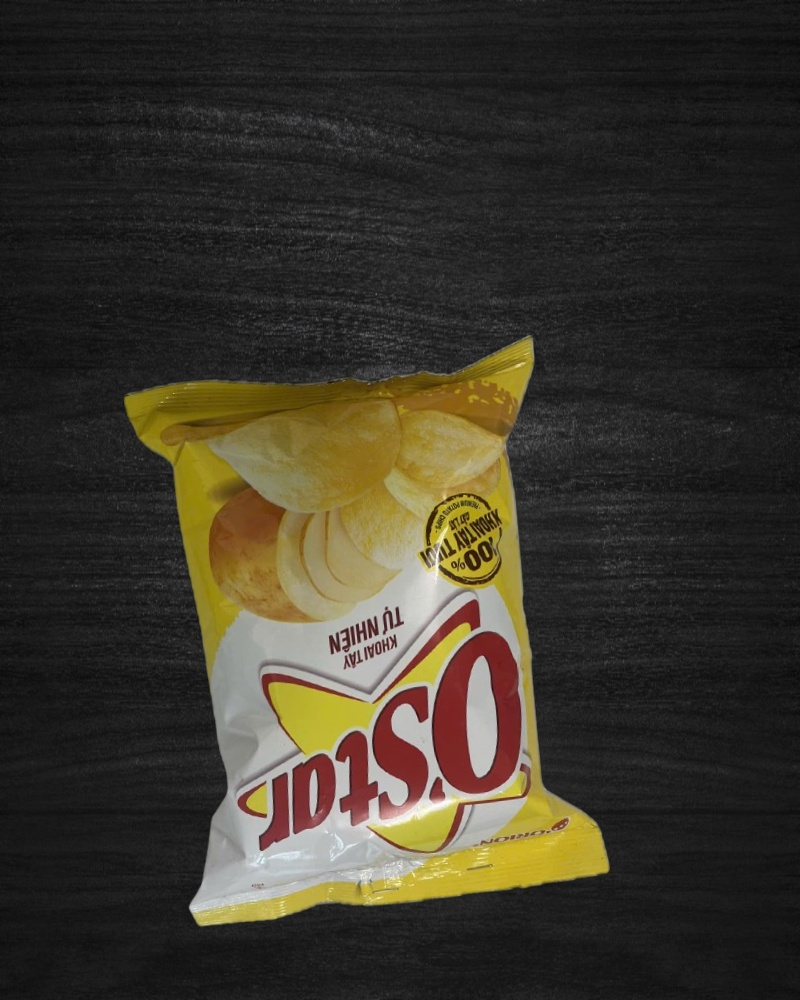Snack cua: (127, 339, 610, 923)
